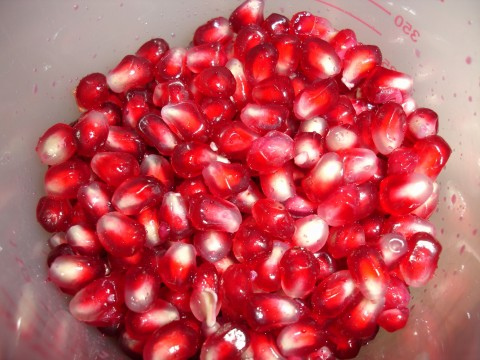pomogranate: (34, 0, 454, 359)
